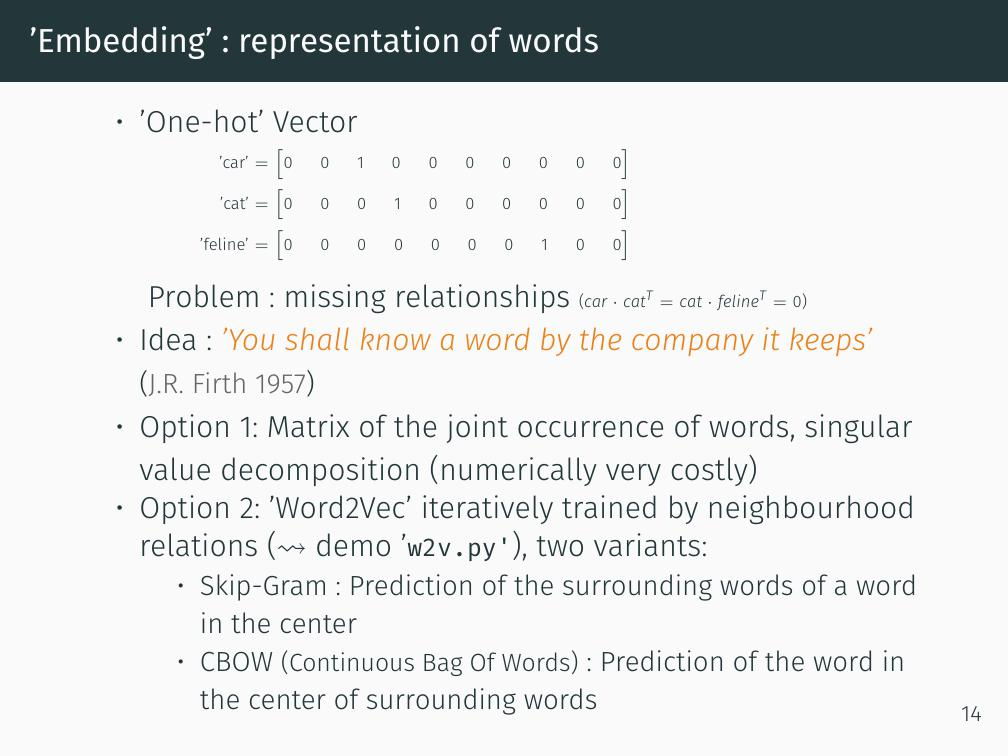Title: (23, 19, 603, 60)
